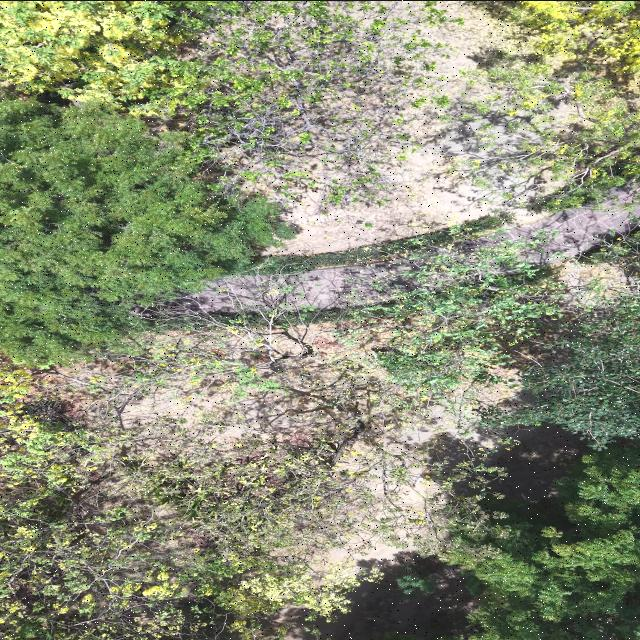DRY_AREA: (34, 325, 579, 500), (36, 325, 578, 496), (35, 324, 571, 494), (37, 324, 503, 513), (242, 1, 561, 255), (237, 1, 516, 255), (36, 324, 487, 451), (35, 324, 456, 460), (60, 324, 490, 451), (36, 324, 410, 446), (262, 109, 535, 255), (256, 106, 501, 254), (117, 325, 347, 446), (119, 325, 349, 445), (270, 149, 495, 255), (264, 544, 475, 639), (264, 551, 473, 639), (314, 554, 473, 639), (164, 261, 413, 313), (167, 261, 411, 313), (169, 261, 411, 313), (162, 262, 402, 314), (178, 262, 410, 312), (448, 424, 586, 503), (504, 189, 639, 264), (121, 387, 295, 442), (485, 423, 587, 502)
PATHWAYS: (161, 262, 411, 314)
VEGETATION_TREE: (0, 1, 639, 639), (1, 260, 502, 638), (0, 1, 459, 364), (1, 328, 480, 639), (1, 373, 356, 639), (0, 1, 460, 202), (1, 1, 460, 202), (1, 406, 358, 639), (0, 101, 294, 365), (446, 296, 639, 639), (220, 217, 563, 399), (183, 1, 460, 205), (447, 445, 639, 639), (466, 1, 639, 212), (360, 240, 561, 397), (451, 52, 639, 212), (482, 282, 639, 448), (0, 1, 206, 116), (484, 297, 639, 448), (259, 212, 512, 274), (494, 1, 639, 90), (579, 231, 639, 277)
